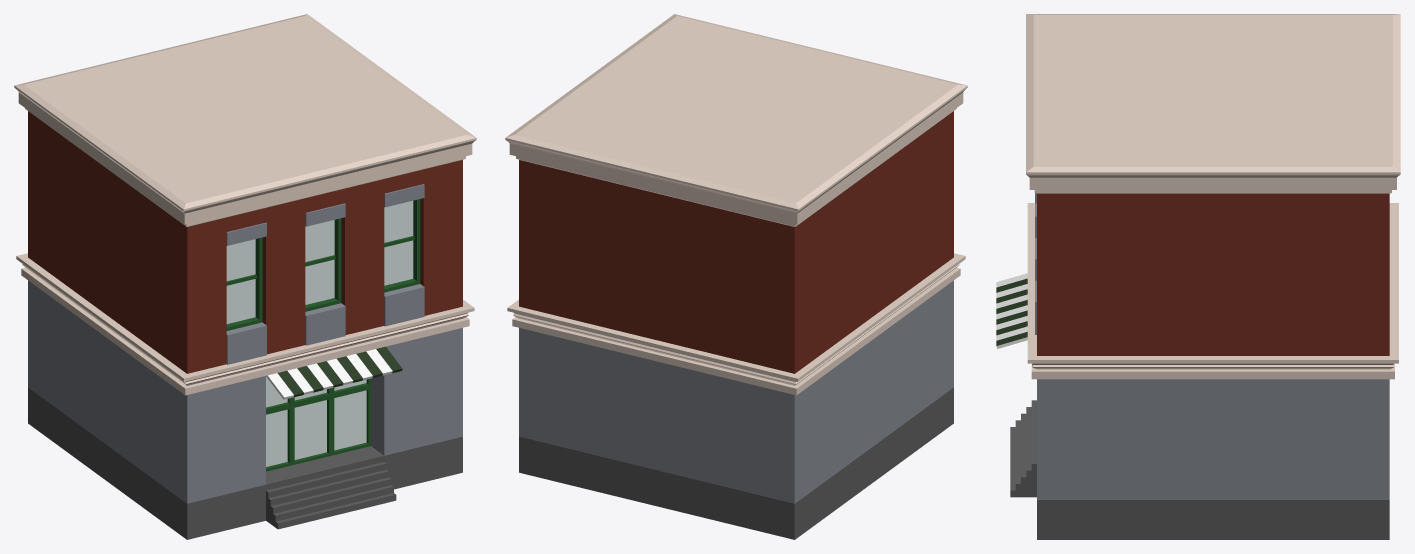
Rendered from House_026.fbx.
The picture shows the model from 3 angles, left to right: view 1: azimuth 30°, elevation 25°; view 2: azimuth 150°, elevation 25°; view 3: azimuth 270°, elevation 25°; orthographic projection. The views are drawn at different scales.
Parts seen in each view (by area): view 1: Cube; view 2: Cube; view 3: Cube.
Part boxes in pixels (bbox=[...]): Cube: bbox=[14, 14, 476, 539]; Cube: bbox=[505, 14, 967, 539]; Cube: bbox=[996, 14, 1400, 539].
Size of the model in its own units: 12.75 by 13.76 by 14.06.
